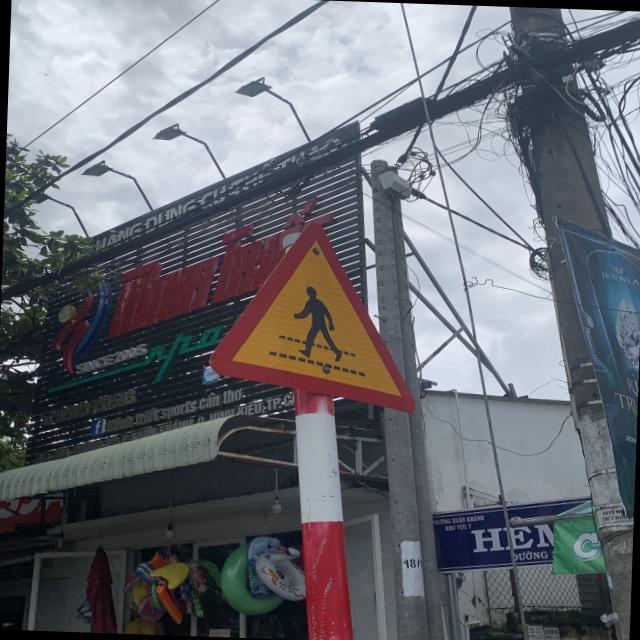Duong_Nguoi_Di_Bo_Sang_Ngang: (204, 215, 416, 408)
